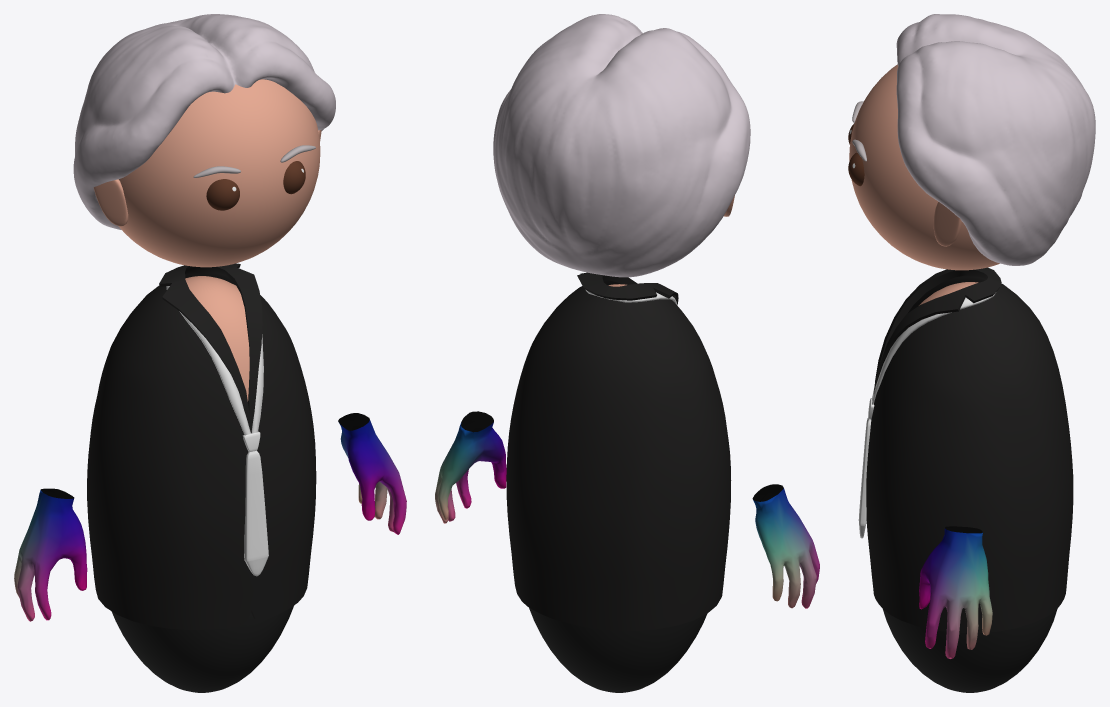
Rendered from KatheKollwitz.fbx.
3 renders of one model, left to right at view 1: azimuth 30°, elevation 25°; view 2: azimuth 150°, elevation 25°; view 3: azimuth 270°, elevation 25°, orthographic.
Visible parts, largest first — view 1: Plane.001, Head.010, Sphere.003, Body.016, Hands.010, Cube.015, NurbsPath, Eyes.010, Cube.013; view 2: Plane.001, Sphere.003, Hands.010, Body.016; view 3: Plane.001, Sphere.003, Head.010, Body.016, Hands.010, Cube.013, NurbsPath, Cube.015, Eyes.010.
Part boxes in pixels (left/top/right/bottom): Plane.001: left=87, top=263, right=316, bottom=629; Head.010: left=118, top=79, right=320, bottom=267; Sphere.003: left=73, top=14, right=335, bottom=229; Body.016: left=111, top=276, right=293, bottom=692; Hands.010: left=14, top=413, right=406, bottom=621; Cube.015: left=244, top=450, right=268, bottom=576; NurbsPath: left=166, top=286, right=263, bottom=435; Eyes.010: left=206, top=161, right=305, bottom=210; Cube.013: left=93, top=130, right=321, bottom=226; Plane.001: left=506, top=272, right=731, bottom=631; Sphere.003: left=493, top=14, right=750, bottom=277; Hands.010: left=435, top=411, right=819, bottom=608; Body.016: left=529, top=284, right=706, bottom=692; Plane.001: left=866, top=267, right=1073, bottom=633; Sphere.003: left=896, top=14, right=1095, bottom=265; Head.010: left=849, top=64, right=999, bottom=270; Body.016: left=883, top=282, right=1057, bottom=692; Hands.010: left=919, top=526, right=992, bottom=658; Cube.013: left=933, top=202, right=961, bottom=246; NurbsPath: left=872, top=292, right=996, bottom=404; Cube.015: left=858, top=418, right=871, bottom=538; Eyes.010: left=848, top=123, right=864, bottom=186.
Bounding box in the file's own units: 383 × 634 × 216.
